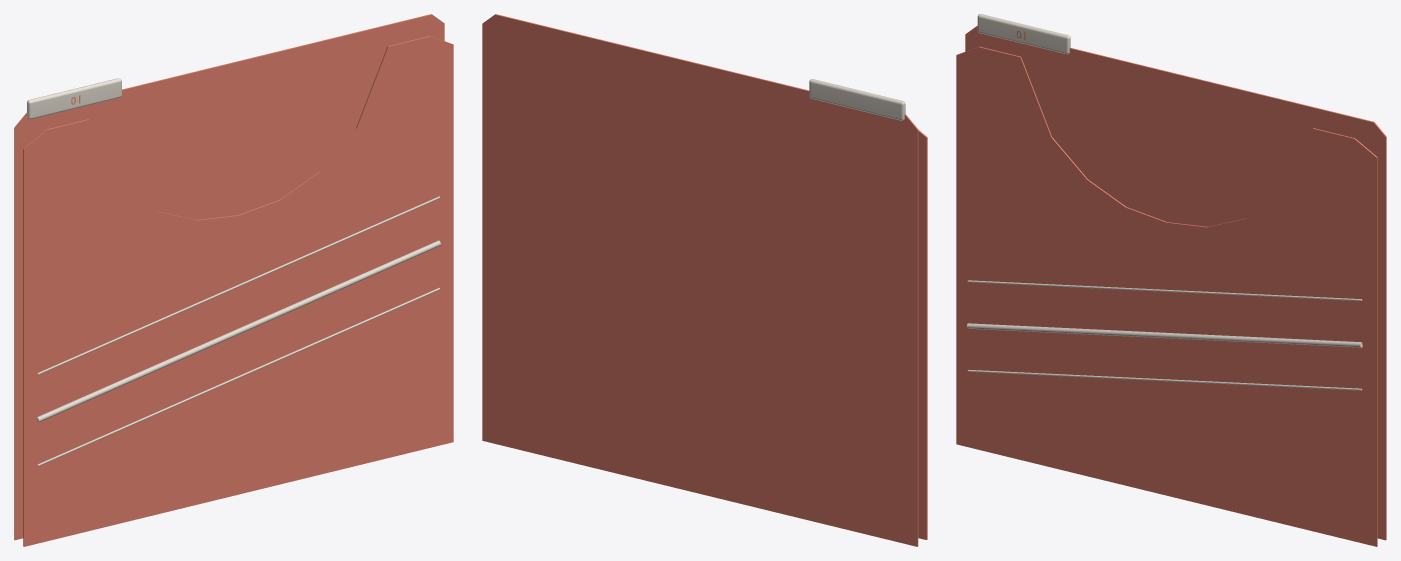
File: BrowseSleeveEmpty.fbx
The picture shows the model from 3 angles, left to right: view 1: azimuth 30°, elevation 25°; view 2: azimuth 150°, elevation 25°; view 3: azimuth 330°, elevation 25°; orthographic projection. The views are drawn at different scales.
Parts seen in each view (by area): view 1: BrowseSleeveEmpty; view 2: BrowseSleeveEmpty; view 3: BrowseSleeveEmpty.
Part boxes in pixels (box(x1,y1,x2,y2)): BrowseSleeveEmpty: box(14, 14, 453, 546); BrowseSleeveEmpty: box(482, 14, 927, 546); BrowseSleeveEmpty: box(956, 14, 1386, 546).
Size of the model in its own units: 0.679 by 0.0361 by 0.6585.
